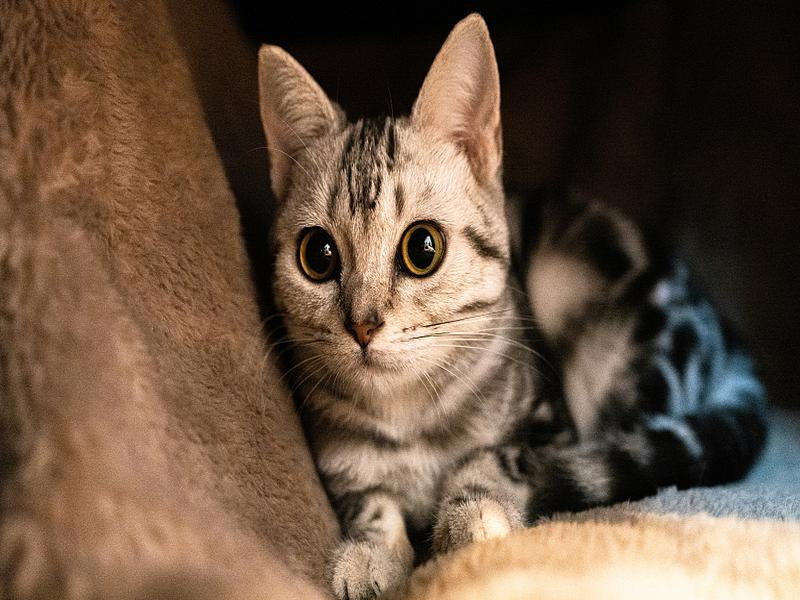cat: (254, 10, 777, 596)
